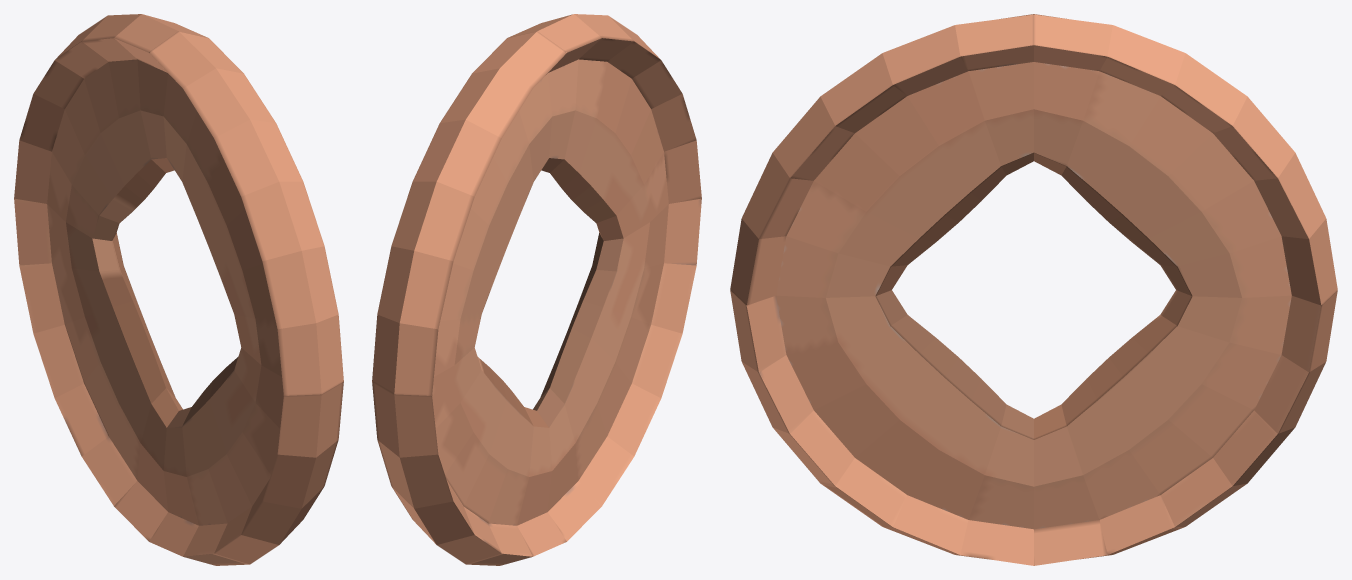
Rendered from Coin.fbx.
3 views of the same model, side by side, from view 1: azimuth 30°, elevation 25°; view 2: azimuth 150°, elevation 25°; view 3: azimuth 270°, elevation 25° (orthographic). The views are drawn at different scales.
Visible parts, largest first — view 1: tube; view 2: tube; view 3: tube.
Boxes of the visible parts, x1=… form: tube: x1=14, y1=14, x2=343, y2=565; tube: x1=372, y1=14, x2=701, y2=565; tube: x1=730, y1=14, x2=1337, y2=565.
Bounding box in the file's own units: 13.95 × 111 × 111.
1 material, 1 textured.
